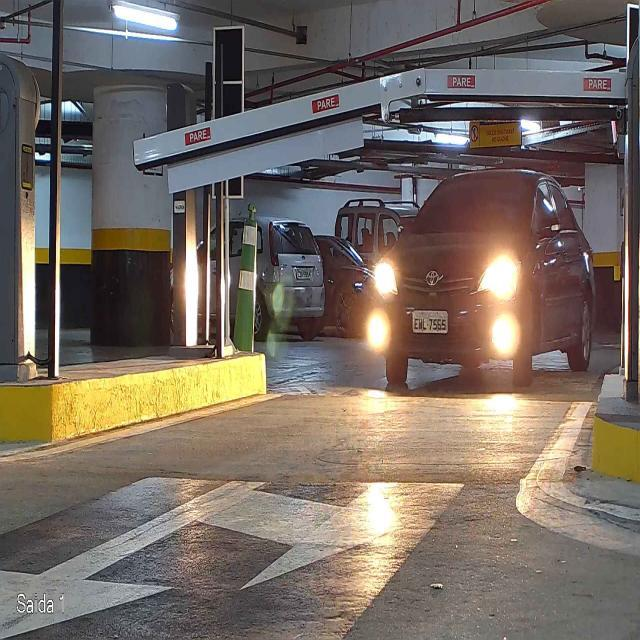old_plate: (410, 309, 450, 335)
